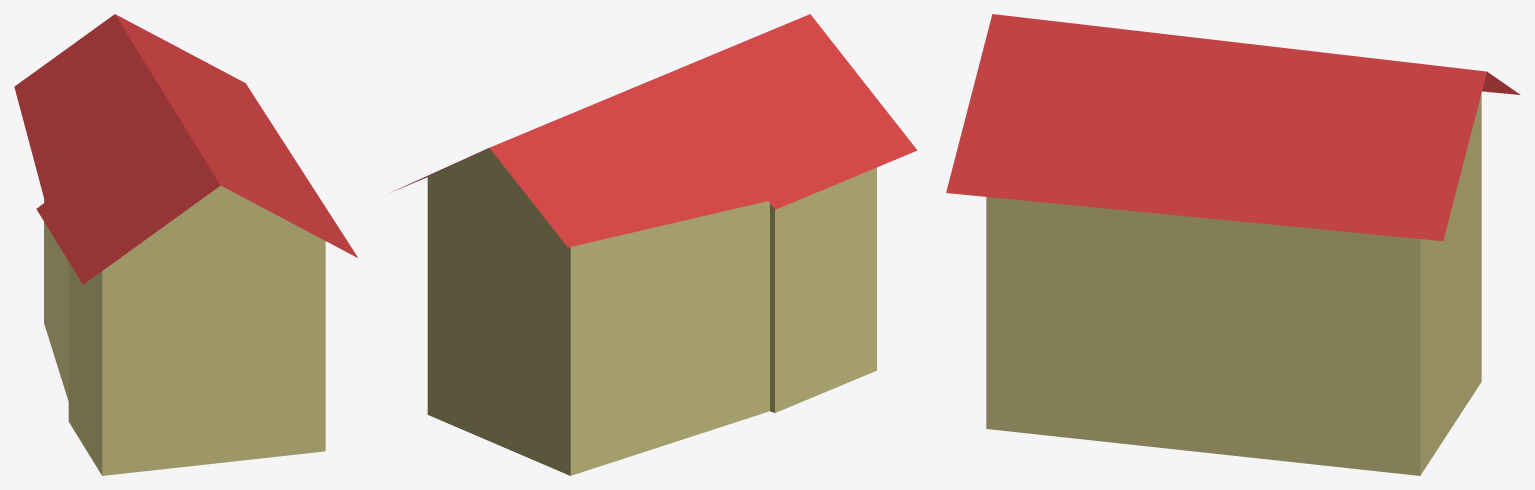
3 views of the same model, side by side, from view 1: azimuth 30°, elevation 25°; view 2: azimuth 150°, elevation 25°; view 3: azimuth 270°, elevation 25° (orthographic). The views are drawn at different scales.
Size of the model in its own units: 14.2 by 17.62 by 11.96.
